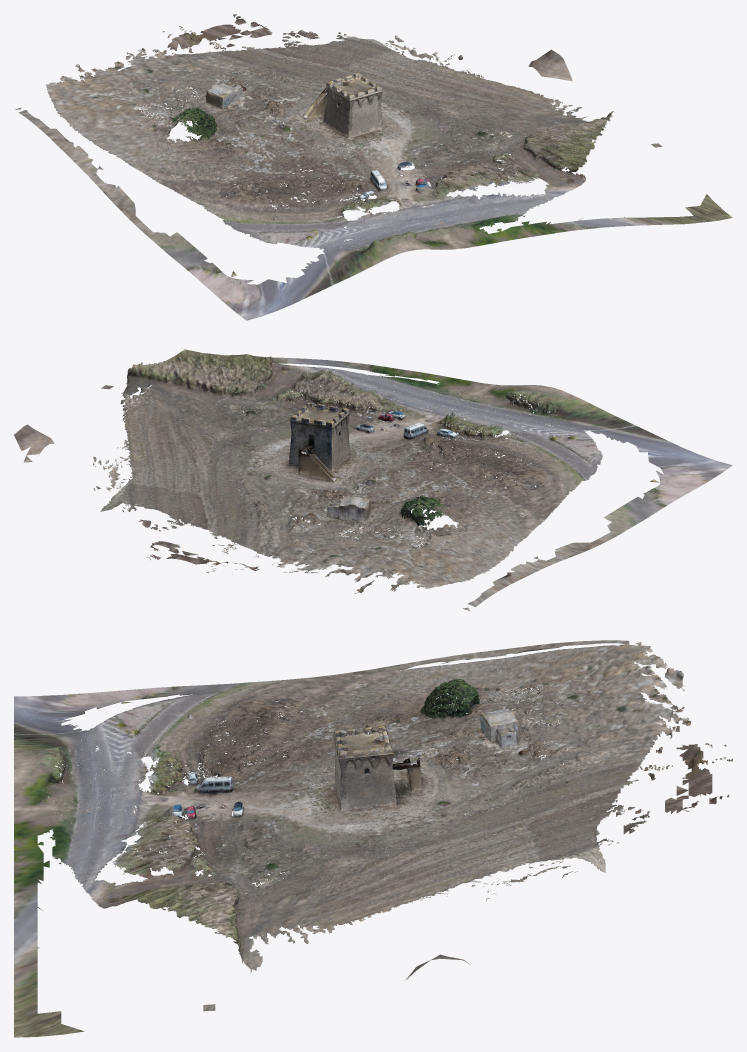
The model's file is torre-borraco.glb.
3 views of the same model, one above another, from view 1: azimuth 30°, elevation 25°; view 2: azimuth 150°, elevation 25°; view 3: azimuth 270°, elevation 25° (orthographic). The views are drawn at different scales.
Visible parts, largest first — view 1: Node; view 2: Node; view 3: Node.
Part boxes in pixels (box(x1,y1,x2,y2)): Node: box(15, 14, 732, 320); Node: box(14, 349, 732, 611); Node: box(14, 640, 732, 1037).
Size of the model in its own units: 143 by 28.2 by 135.
30 materials, 30 textured.
